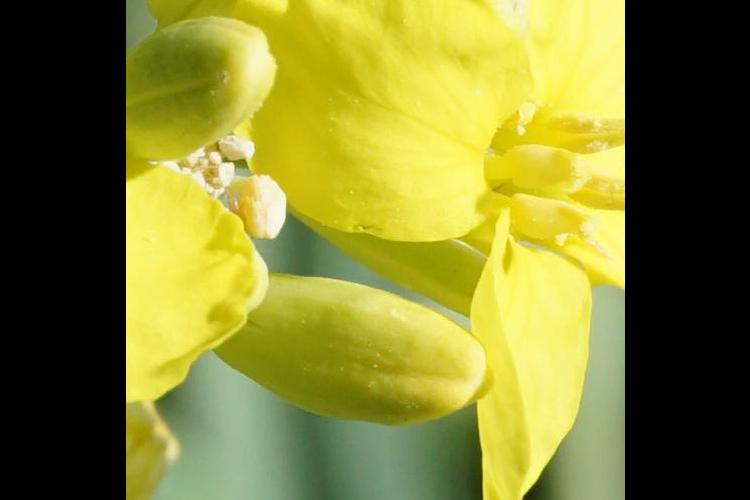bud: (237, 261, 490, 437), (127, 8, 279, 138)
yellow: (259, 1, 610, 490)
